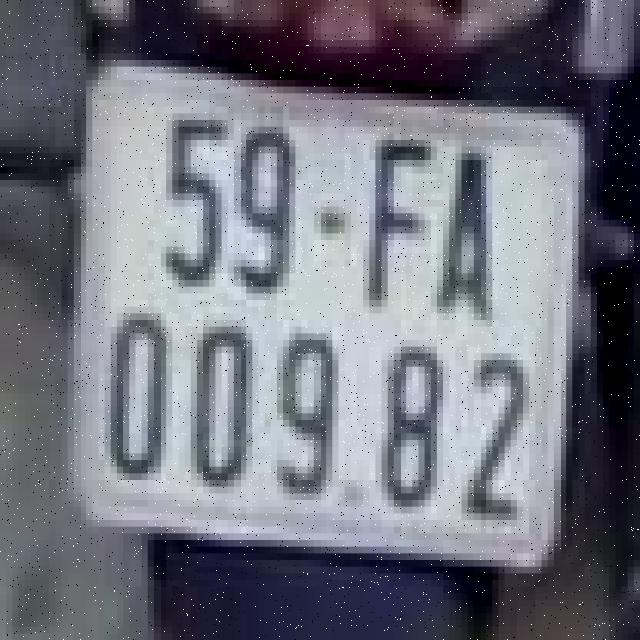0: (178, 317, 252, 490), (105, 307, 172, 480)
2: (456, 353, 536, 527)
5: (144, 100, 230, 293)
8: (372, 340, 446, 520)
9: (234, 110, 308, 297), (264, 320, 338, 507)
A: (434, 127, 508, 340)
F: (344, 124, 430, 324)
